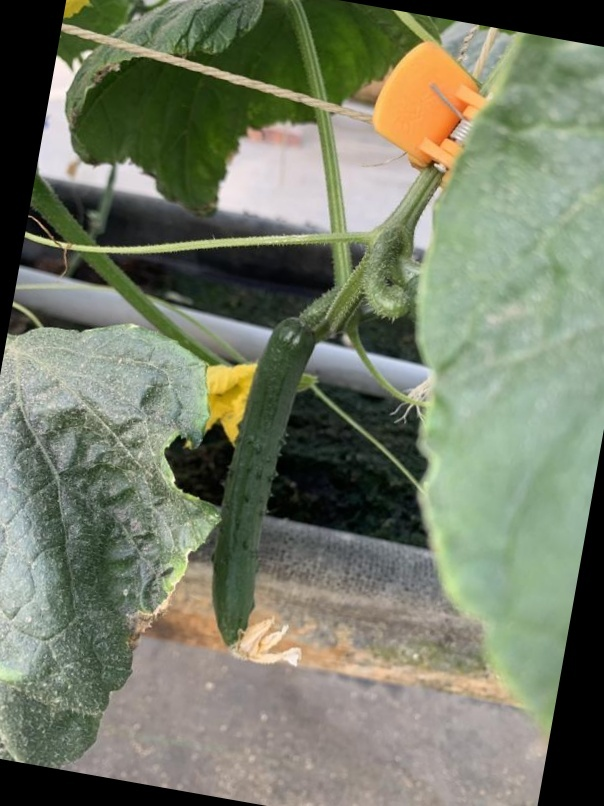mature: (201, 317, 316, 680)
